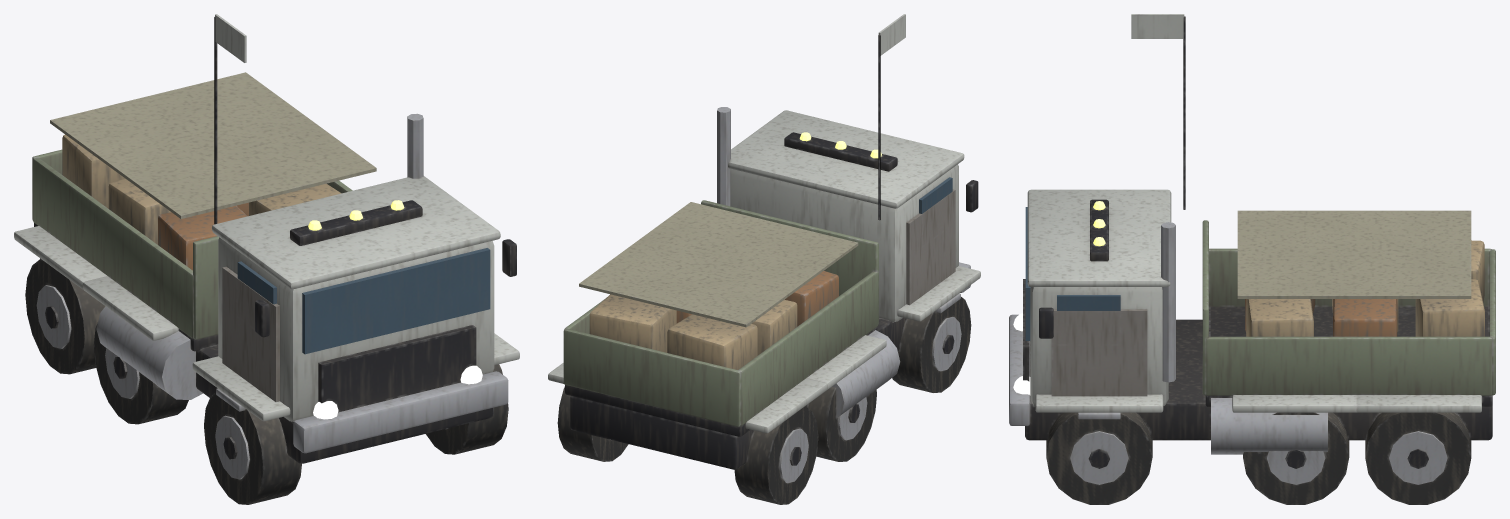
Rendered from truck.glb.
3 views of the same model, side by side, from view 1: azimuth 30°, elevation 25°; view 2: azimuth 150°, elevation 25°; view 3: azimuth 270°, elevation 25° (orthographic). The views are drawn at different scales.
Parts seen in each view (by area): view 1: Hull; view 2: Hull; view 3: Hull.
Boxes of the visible parts, x1,y1,x2,y2 form: Hull: (14, 14, 519, 504); Hull: (548, 14, 980, 504); Hull: (1009, 14, 1495, 504).
Bounding box in the file's own units: 2.56 × 4.12 × 4.58.
Materials: 12 (12 with a texture image).
